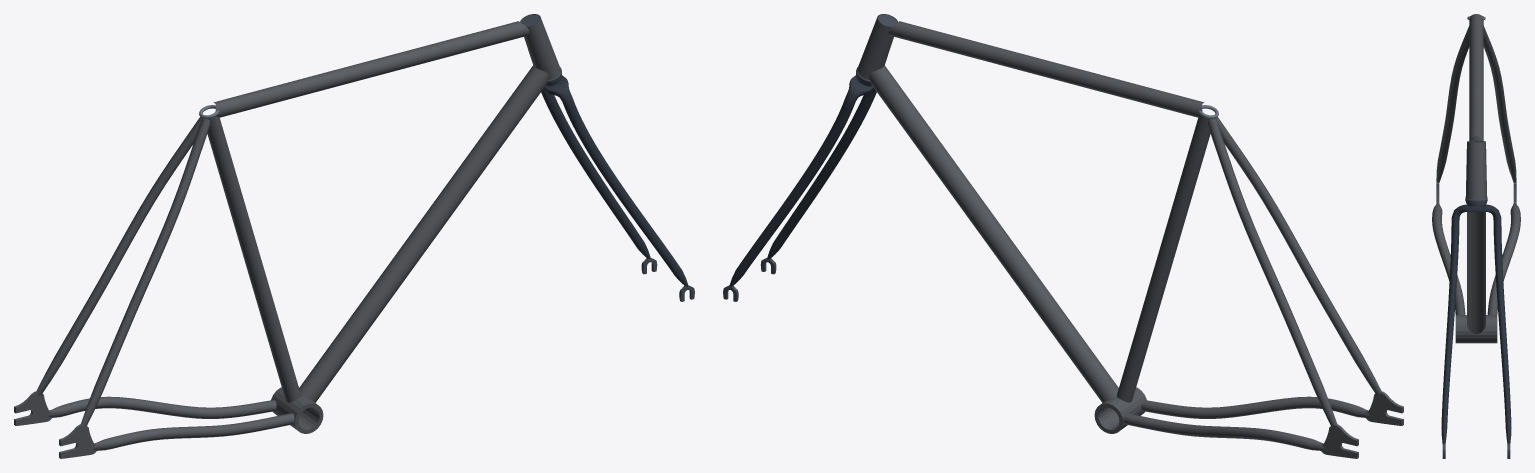
Rendered from wabi-prism-51.glb.
3 renders of one model, left to right at view 1: azimuth 30°, elevation 25°; view 2: azimuth 150°, elevation 25°; view 3: azimuth 270°, elevation 25°, orthographic. The views are drawn at different scales.
Parts seen in each view (by area): view 1: paint_down, paint_top, paint_seat, paint_seatstay_1, paint_seatstay_-1, paint_chainstay_-1, paint_chainstay_1, fork_blade_1, fork_blade_-1, paint_bottom_bracket, paint_head, rear_dropout_1 (+1 smaller); view 2: paint_down, paint_top, paint_seat, paint_seatstay_-1, paint_seatstay_1, paint_chainstay_1, paint_chainstay_-1, fork_blade_-1, fork_blade_1, paint_bottom_bracket, paint_head, rear_dropout_-1 (+1 smaller); view 3: paint_down, paint_top, fork_blade_1, fork_blade_-1, paint_seatstay_-1, paint_seatstay_1, paint_head, paint_chainstay_-1, paint_chainstay_1, paint_bottom_bracket, fork_crown, fork_headset_lower.
Part boxes in pixels (x1,y1,x2,y2): paint_down: (299,65,548,402); paint_top: (213,21,529,117); paint_seat: (207,116,300,402); paint_seatstay_1: (80,118,210,425); paint_seatstay_-1: (36,117,202,395); paint_chainstay_-1: (48,396,276,418); paint_chainstay_1: (93,413,294,450); fork_blade_1: (563,98,688,286); fork_blade_-1: (541,90,650,259); paint_bottom_bracket: (271,387,323,433); paint_head: (520,14,560,79); rear_dropout_1: (59,424,96,458); paint_down: (869,65,1118,402); paint_top: (888,21,1204,117); paint_seat: (1117,116,1210,402); paint_seatstay_-1: (1207,118,1337,425); paint_seatstay_1: (1215,117,1382,396); paint_chainstay_1: (1141,396,1369,418); paint_chainstay_-1: (1123,413,1324,450); fork_blade_-1: (729,98,854,286); fork_blade_1: (767,90,876,259); paint_bottom_bracket: (1094,387,1146,433); paint_head: (857,14,897,79); rear_dropout_-1: (1321,424,1358,458); paint_down: (1467,212,1485,333); paint_top: (1469,14,1483,140); fork_blade_1: (1441,218,1459,444); fork_blade_-1: (1493,218,1511,444); paint_seatstay_-1: (1483,26,1516,182); paint_seatstay_1: (1436,26,1469,182); paint_head: (1465,140,1487,199); paint_chainstay_-1: (1487,202,1520,314); paint_chainstay_1: (1432,202,1465,314); paint_bottom_bracket: (1455,315,1497,343); fork_crown: (1451,204,1501,218); fork_headset_lower: (1465,198,1487,206).
Bounding box in the file's own units: 1.03 × 0.538 × 0.144.
